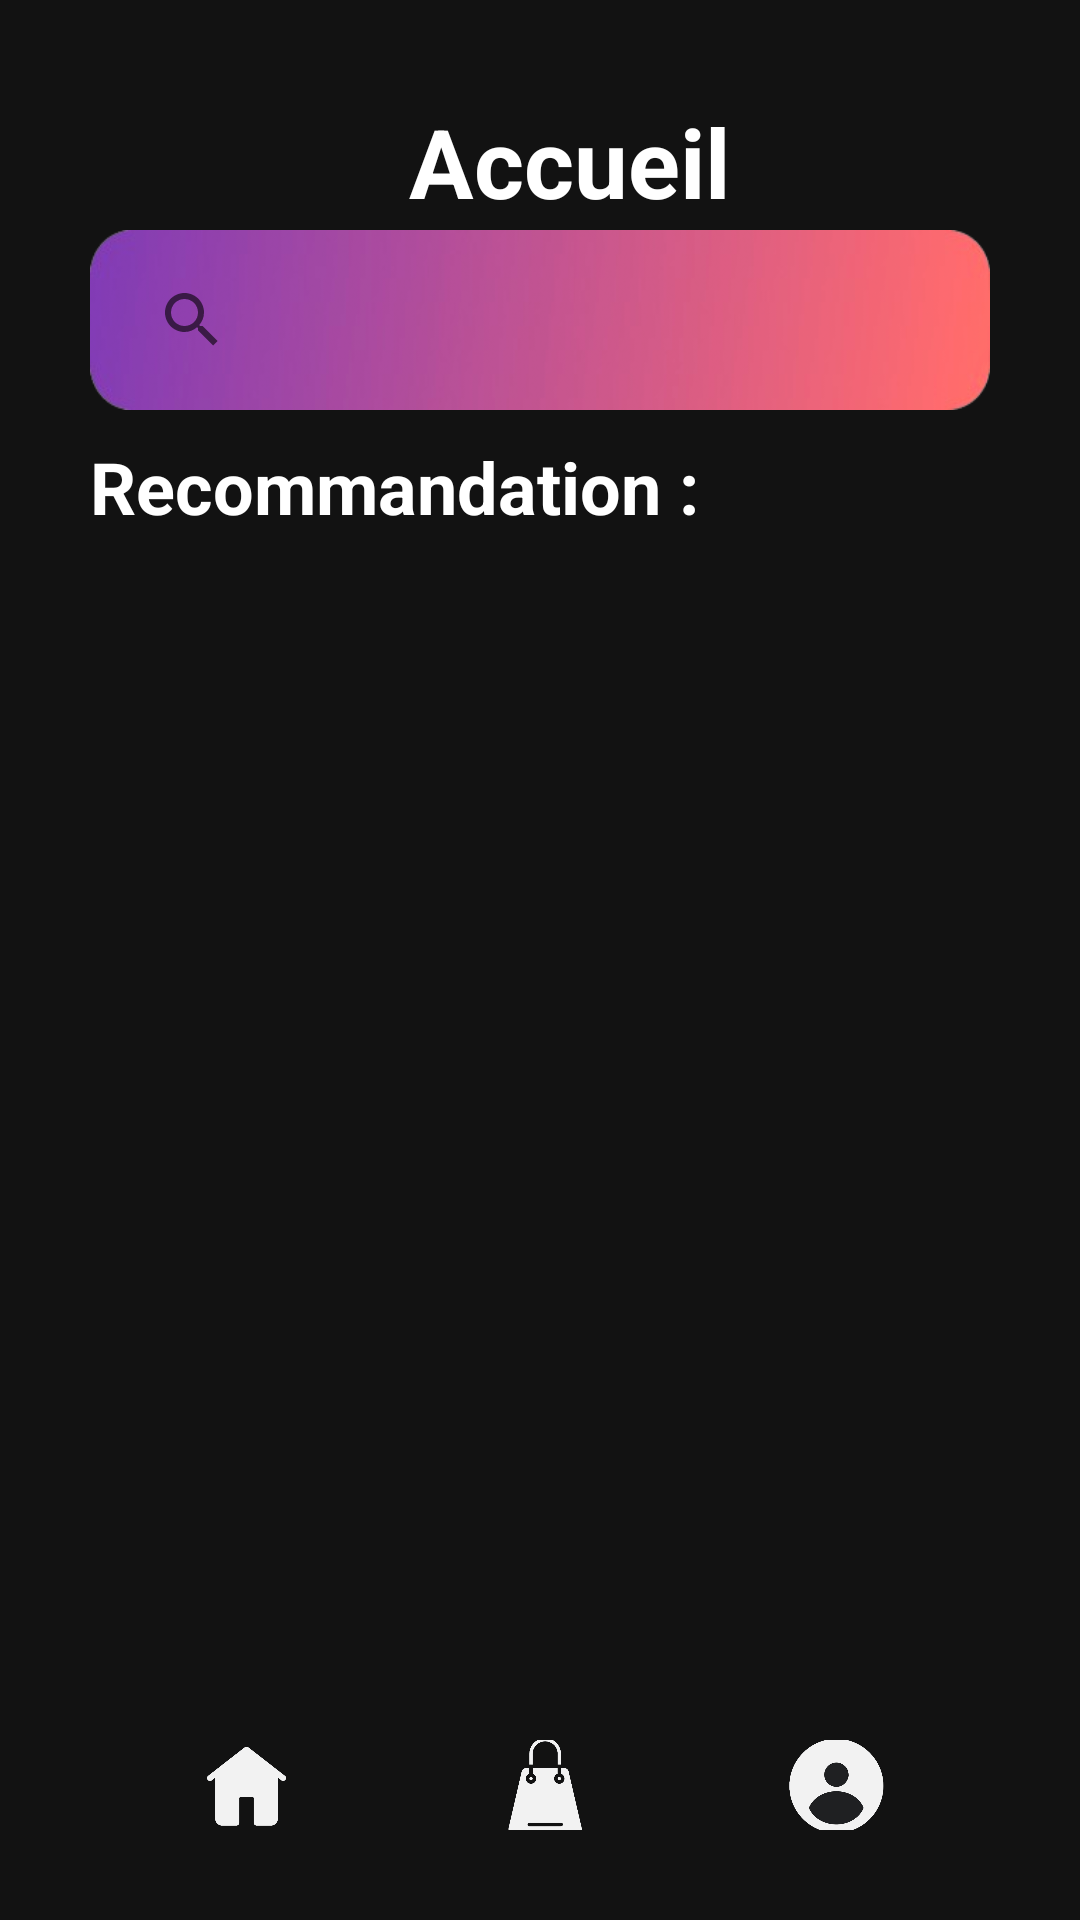

Where to tap for icons on this 1080px x 1920px app screen, as (x=x, y=y):
store: (x=545, y=1785)
